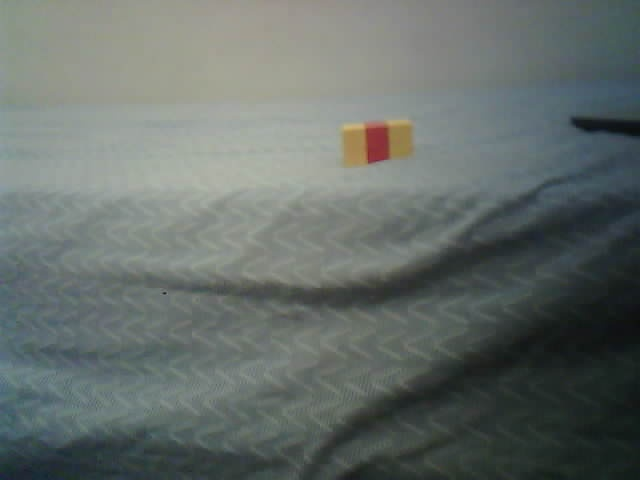lego: (340, 117, 413, 166)
